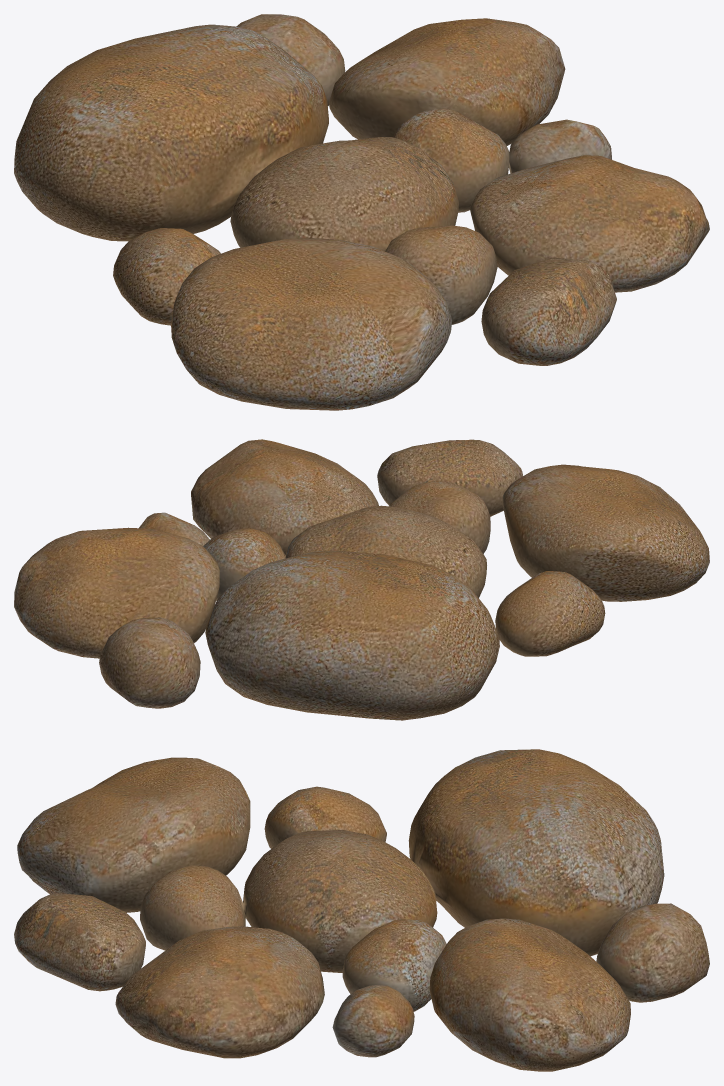
File: rock-titan-cobbles.glb
The picture shows the model from 3 angles, top to bottom: view 1: azimuth 30°, elevation 25°; view 2: azimuth 150°, elevation 25°; view 3: azimuth 270°, elevation 25°; orthographic projection. The views are drawn at different scales.
Visible parts, largest first — view 1: lod0; view 2: lod0; view 3: lod0.
Part boxes in pixels (box(x1,y1,x2,y2)): lod0: box(14, 14, 709, 410); lod0: box(14, 439, 709, 720); lod0: box(14, 749, 709, 1071).
Size of what is drawn, in the model's own units: 0.8892 by 0.2101 by 0.9994.
1 material, 1 textured.
